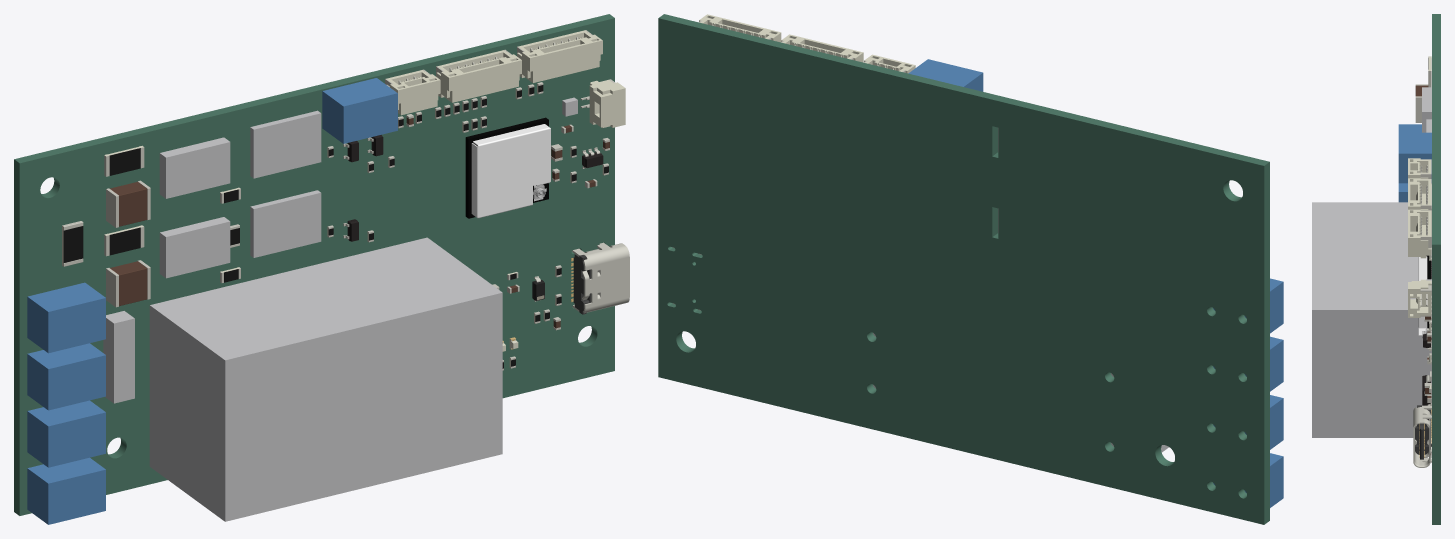
The model's file is board.glb.
3 views of the same model, side by side, from view 1: azimuth 30°, elevation 25°; view 2: azimuth 150°, elevation 25°; view 3: azimuth 270°, elevation 25° (orthographic). The views are drawn at different scales.
Parts seen in each view (by area): view 1: =>[0:1:1:34], PS1, =>[0:1:1:17]_4a7e0b, J12, J15, J14, J13, J2, U9, U8, Q6, Q5 (+11 smaller); view 2: =>[0:1:1:34], J2, =>[0:1:1:7]_44e401, =>[0:1:1:7]_1_9257bc; view 3: PS1, =>[0:1:1:34], J2, =>[0:1:1:7]_1_9257bc, =>[0:1:1:33]_6930c3, =>[0:1:1:27]_090cb3, =>[0:1:1:7]_44e401, =>[0:1:1:27]_64642d, =>[0:1:1:19]_7e1cfe, Q5, =>[0:1:1:17]_4a7e0b, =>[0:1:1:25]_1_90d976 (+3 smaller).
Boxes of the visible parts, x1,y1,x2,y2 form: =>[0:1:1:34]: (14, 14, 614, 515); PS1: (149, 237, 502, 521); =>[0:1:1:17]_4a7e0b: (471, 124, 550, 218); J12: (27, 282, 105, 353); J15: (27, 457, 105, 524); J14: (27, 400, 105, 467); J13: (27, 343, 105, 410); J2: (322, 78, 397, 143); U9: (250, 190, 321, 257); U8: (250, 110, 321, 178); Q6: (159, 217, 230, 278); Q5: (159, 137, 230, 198); =>[0:1:1:34]: (658, 14, 1269, 524); J2: (908, 59, 983, 91); =>[0:1:1:7]_44e401: (781, 34, 863, 62); =>[0:1:1:7]_1_9257bc: (699, 14, 781, 42); PS1: (1312, 202, 1431, 437); =>[0:1:1:34]: (1432, 14, 1440, 524); J2: (1398, 132, 1431, 183); =>[0:1:1:7]_1_9257bc: (1408, 209, 1431, 258); =>[0:1:1:33]_6930c3: (1408, 279, 1431, 317); =>[0:1:1:27]_090cb3: (1413, 405, 1431, 467); =>[0:1:1:7]_44e401: (1408, 178, 1431, 210); =>[0:1:1:27]_64642d: (1415, 405, 1431, 459); =>[0:1:1:19]_7e1cfe: (1408, 158, 1431, 178); Q5: (1422, 87, 1431, 132); =>[0:1:1:17]_4a7e0b: (1418, 256, 1427, 335); =>[0:1:1:25]_1_90d976: (1415, 84, 1428, 122).
Bounding box in the file's own units: 98.49 × 55.5 × 23.1.
